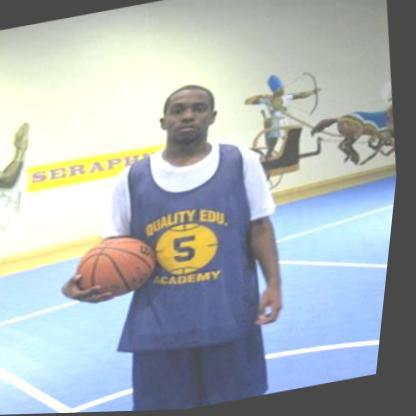basketball: (70, 229, 167, 304)
